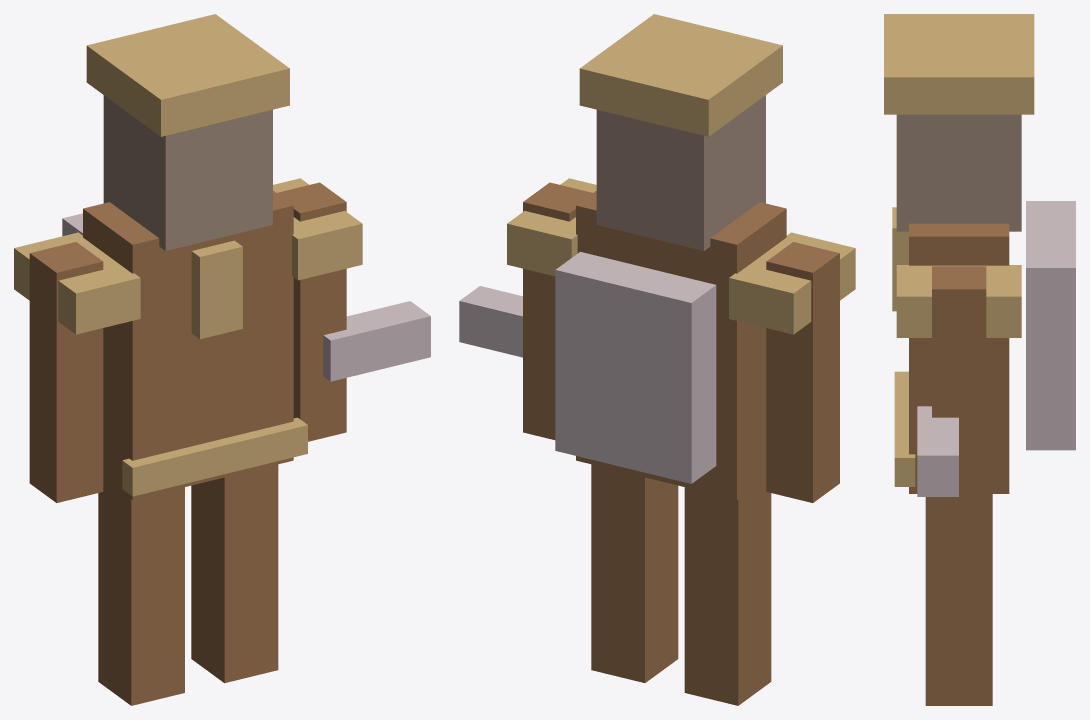
Rendered from 07_edda_stormhush_navigator_under_scholar.glb.
The picture shows the model from 3 angles, left to right: view 1: azimuth 30°, elevation 25°; view 2: azimuth 150°, elevation 25°; view 3: azimuth 270°, elevation 25°; orthographic projection.
Visible parts, largest first — view 1: Edda Stormhush, Navigator under Scholar; view 2: Edda Stormhush, Navigator under Scholar; view 3: Edda Stormhush, Navigator under Scholar.
Part boxes in pixels (left/top/right/bottom): Edda Stormhush, Navigator under Scholar: left=14, top=14, right=430, bottom=705; Edda Stormhush, Navigator under Scholar: left=459, top=14, right=855, bottom=705; Edda Stormhush, Navigator under Scholar: left=884, top=14, right=1075, bottom=705.
Size of the model in its own units: 0.9697 by 1.56 by 0.4352.
